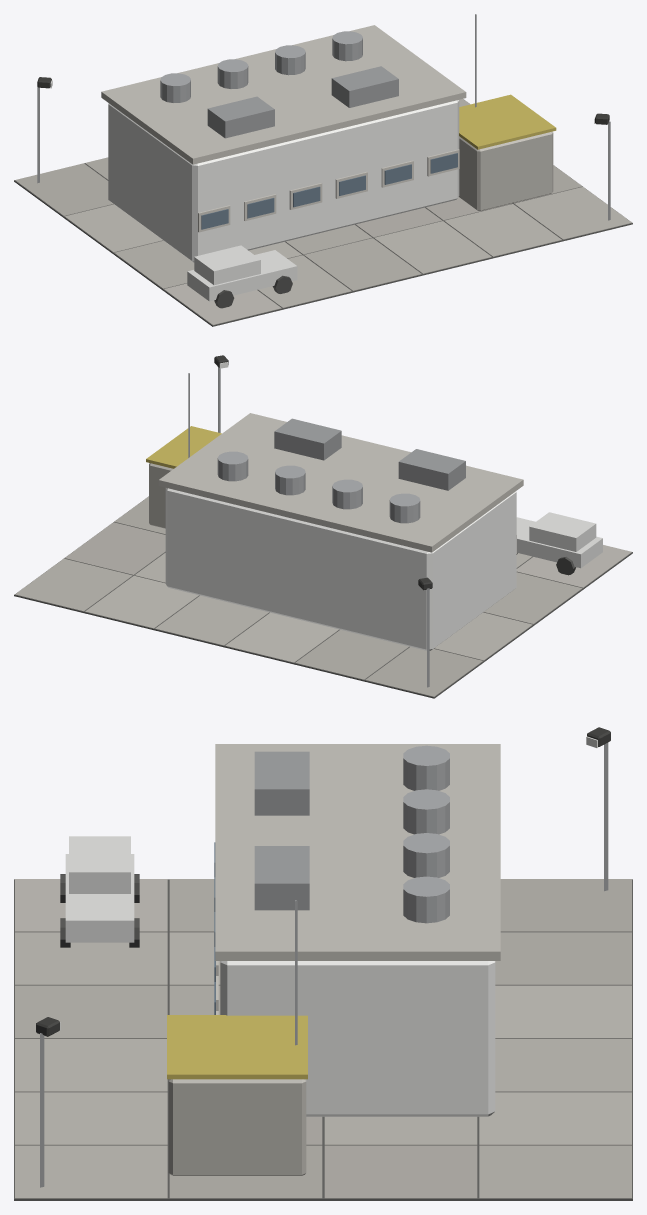
File: b_elab.glb
The picture shows the model from 3 angles, top to bottom: view 1: azimuth 30°, elevation 25°; view 2: azimuth 150°, elevation 25°; view 3: azimuth 270°, elevation 25°; orthographic projection. The views are drawn at different scales.
Parts seen in each view (by area): view 1: hull; view 2: hull; view 3: hull.
Part boxes in pixels (box(x1,y1,x2,y2)): hull: box(14, 14, 632, 326); hull: box(14, 355, 632, 698); hull: box(14, 727, 632, 1200).
Bounding box in the file's own units: 22 × 8 × 18.
